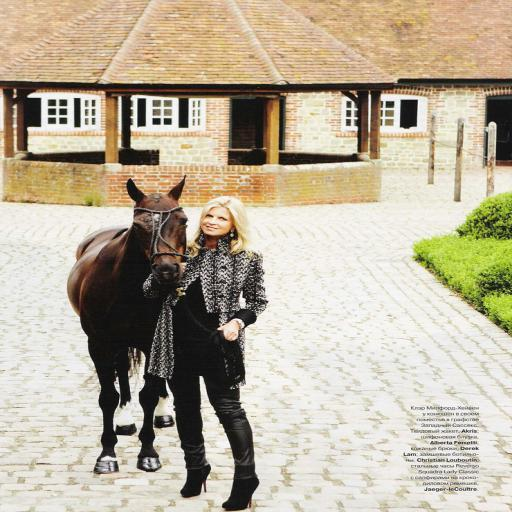horse: (74, 173, 208, 471)
